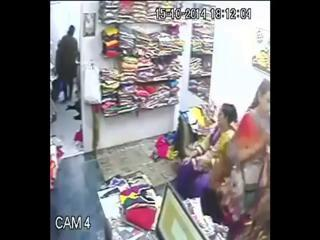Normal: (203, 78, 270, 228), (55, 25, 79, 103)
